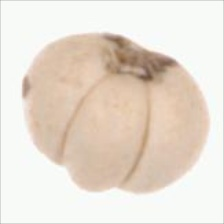L5: (57, 69, 152, 197), (97, 29, 178, 83), (55, 157, 135, 198)
L6: (17, 28, 214, 198)
